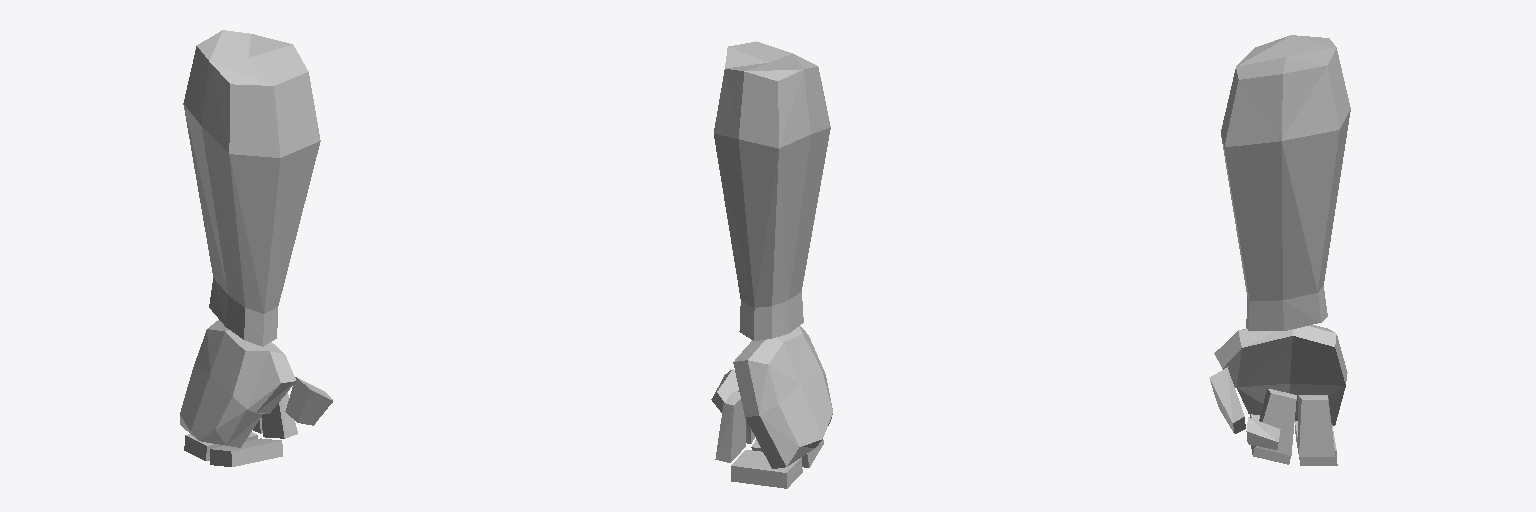
Rendered from ArmRHand.obj.
3 views of the same model, side by side, from view 1: azimuth 30°, elevation 25°; view 2: azimuth 150°, elevation 25°; view 3: azimuth 270°, elevation 25° (orthographic).
Parts seen in each view (by area): view 1: ArmR_Cube.008, HandR_Cube.000; view 2: ArmR_Cube.008, HandR_Cube.000; view 3: ArmR_Cube.008, HandR_Cube.000.
Part boxes in pixels (x1,y1,x2,y2): ArmR_Cube.008: (183,30,320,346); HandR_Cube.000: (180,320,332,466); ArmR_Cube.008: (714,41,830,340); HandR_Cube.000: (711,326,832,488); ArmR_Cube.008: (1221,35,1350,330); HandR_Cube.000: (1209,325,1347,465).
Size of the model in its own units: 0.1073 by 0.3524 by 0.1098.